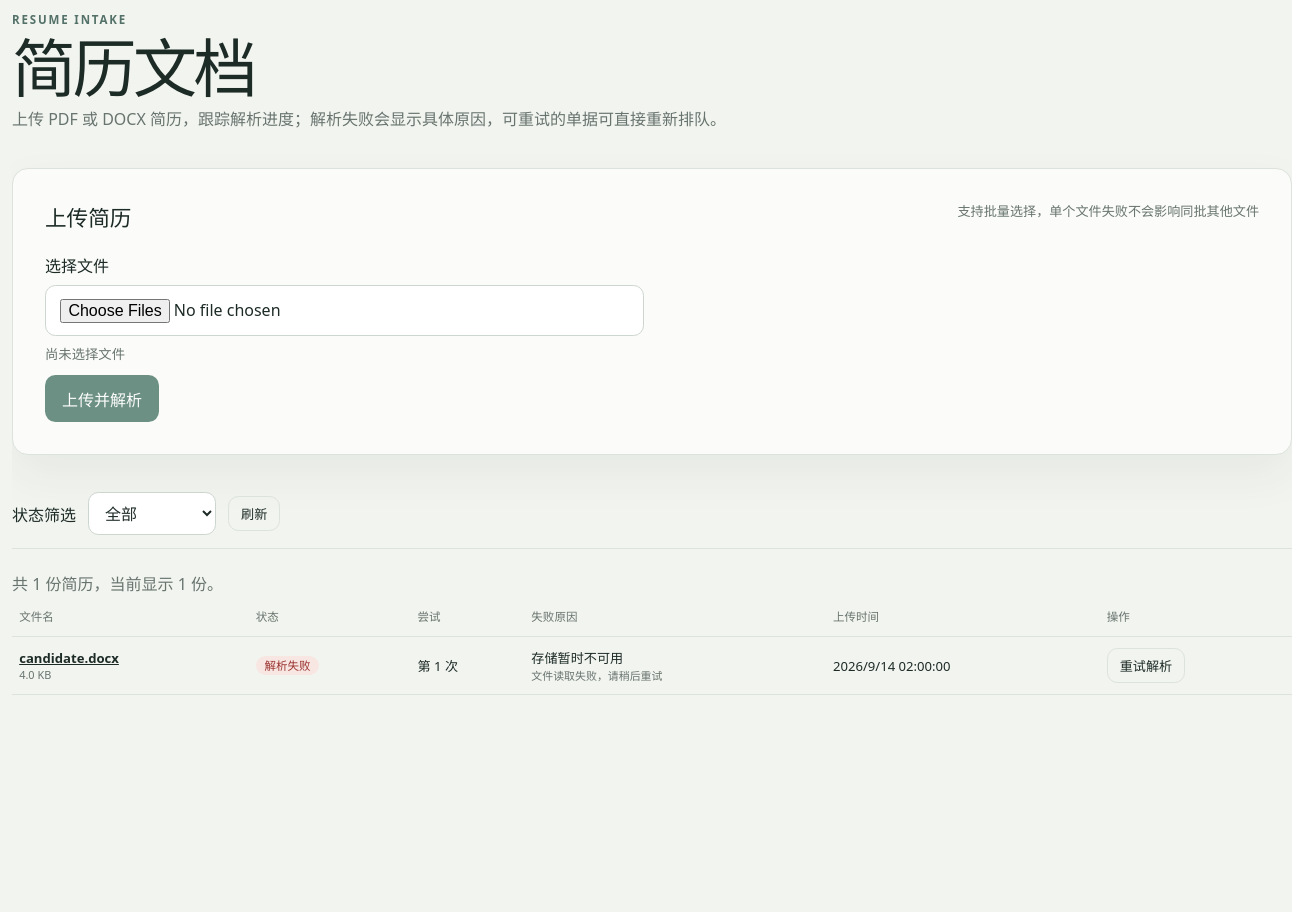
Test: DocumentsPage › surfaces the request id when a retry is rejected
Click the button "重试解析" at (1146, 666), box [1107,648,1185,683]
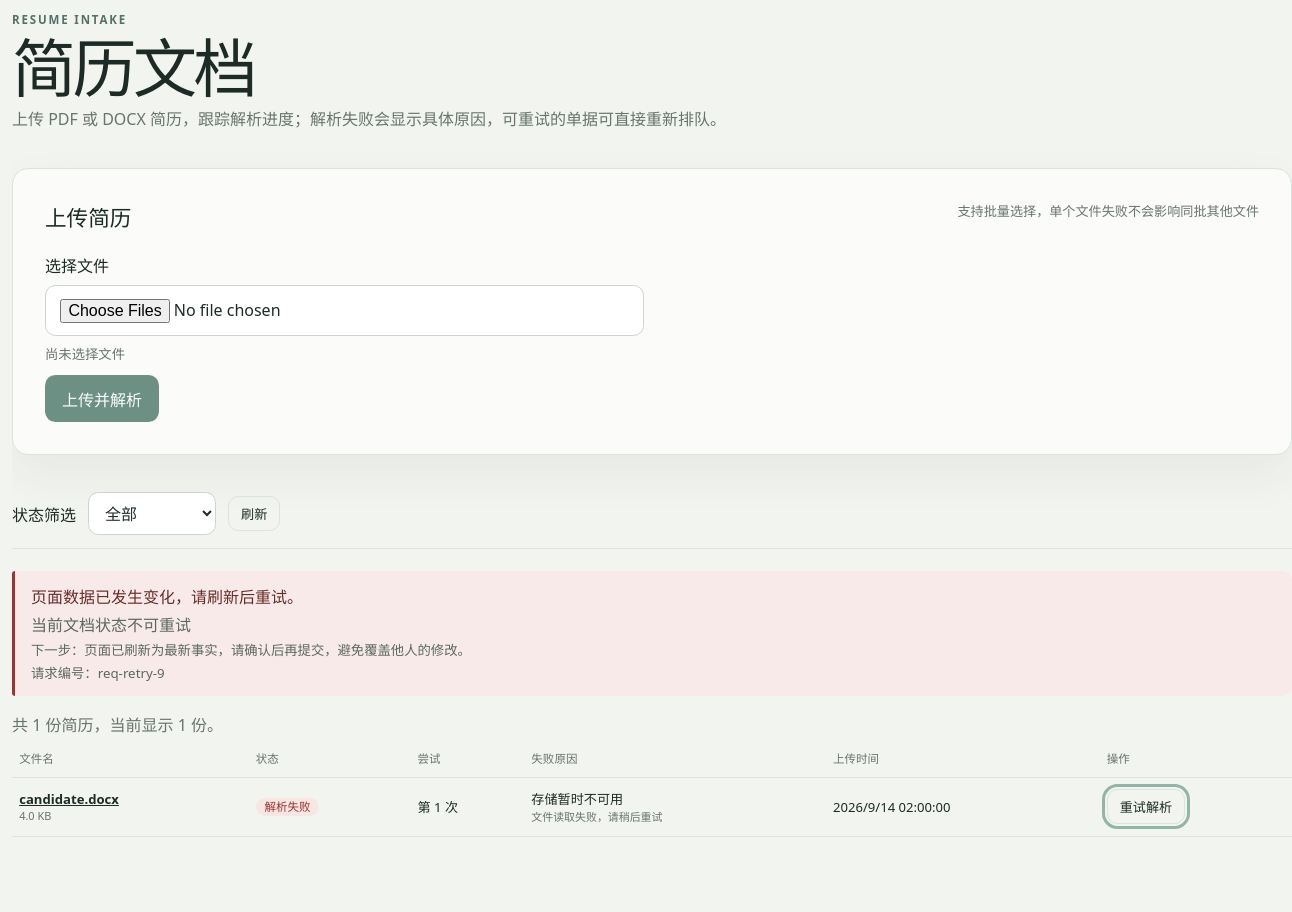
Result: the message shows "当前文档状态不可重试" at [31,614,191,636]
Result: the message shows "请求编号：req-retry-9" at [12,571,1291,696]
